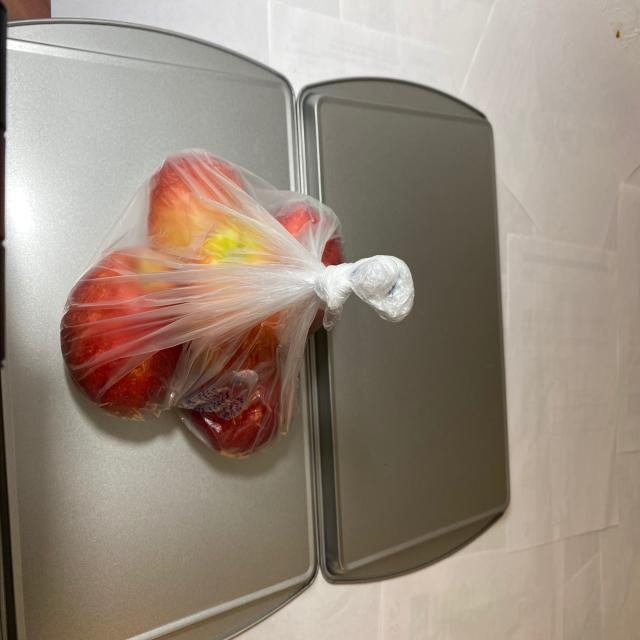apple: (55, 144, 347, 463)
